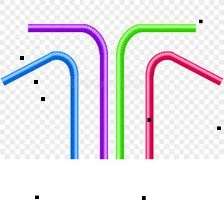drinking_straw: (24, 18, 112, 162), (111, 18, 199, 162), (140, 45, 224, 160), (0, 48, 83, 162)
